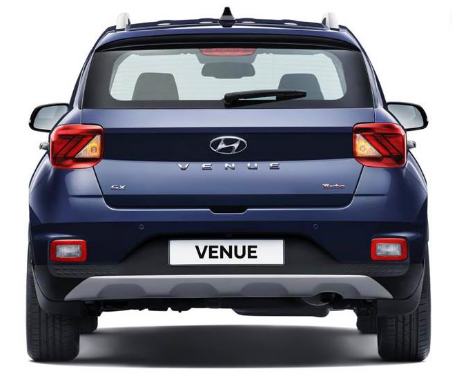car: (19, 8, 435, 370)
